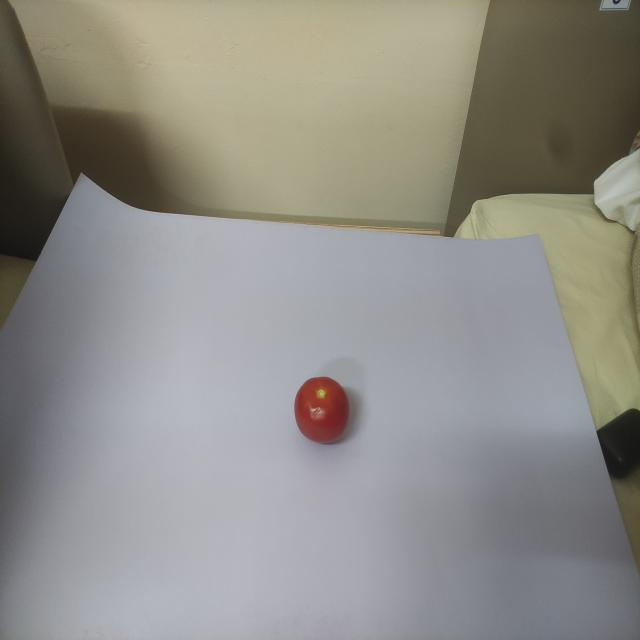kirmizi: (284, 358, 362, 464)
